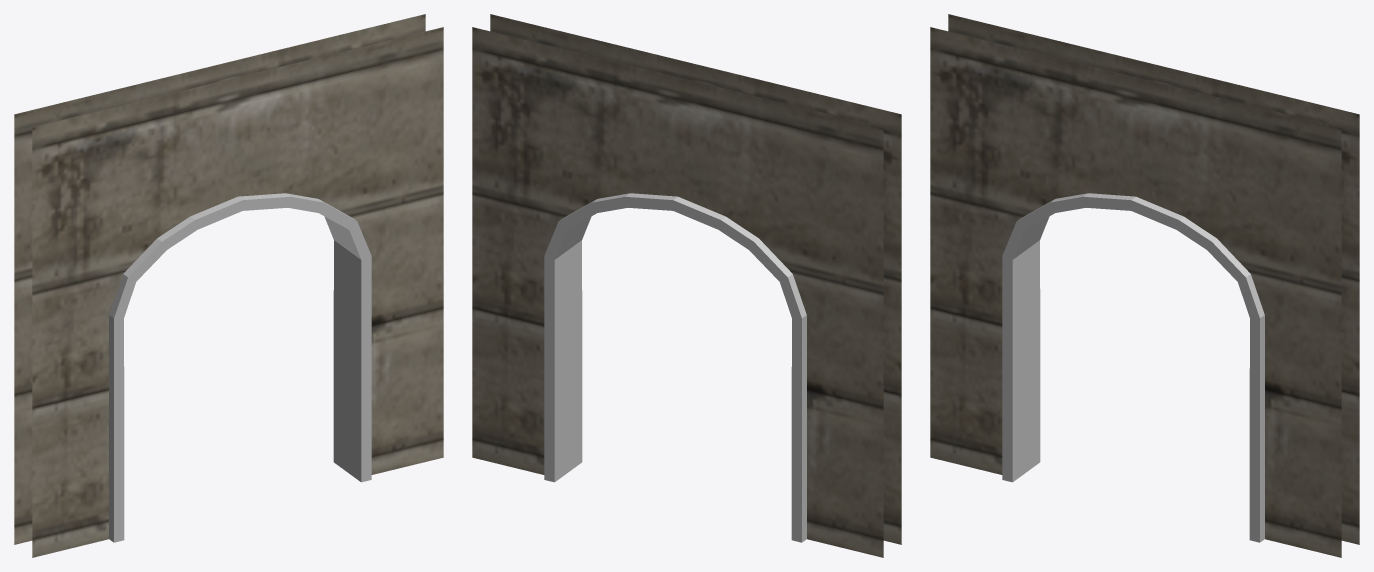
The model's file is MO_WALL_S_DOOR_06.fbx.
The picture shows the model from 3 angles, left to right: view 1: azimuth 30°, elevation 25°; view 2: azimuth 150°, elevation 25°; view 3: azimuth 330°, elevation 25°; orthographic projection.
Parts seen in each view (by area): view 1: MO_WALL_S_DOOR_06; view 2: MO_WALL_S_DOOR_06; view 3: MO_WALL_S_DOOR_06.
Part boxes in pixels (x1,y1,x2,y2): MO_WALL_S_DOOR_06: (14, 14, 443, 557); MO_WALL_S_DOOR_06: (472, 14, 901, 557); MO_WALL_S_DOOR_06: (930, 14, 1359, 557).
Size of the model in its own units: 4 by 4 by 0.464.
